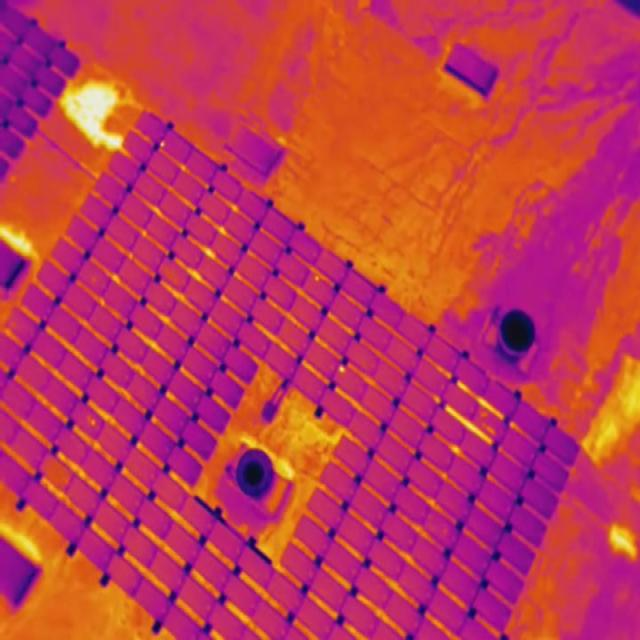Orange-Spots: (487, 425, 496, 437), (481, 408, 488, 419), (90, 418, 96, 428), (314, 274, 320, 282), (339, 366, 345, 374), (480, 423, 486, 429), (160, 142, 164, 148)
